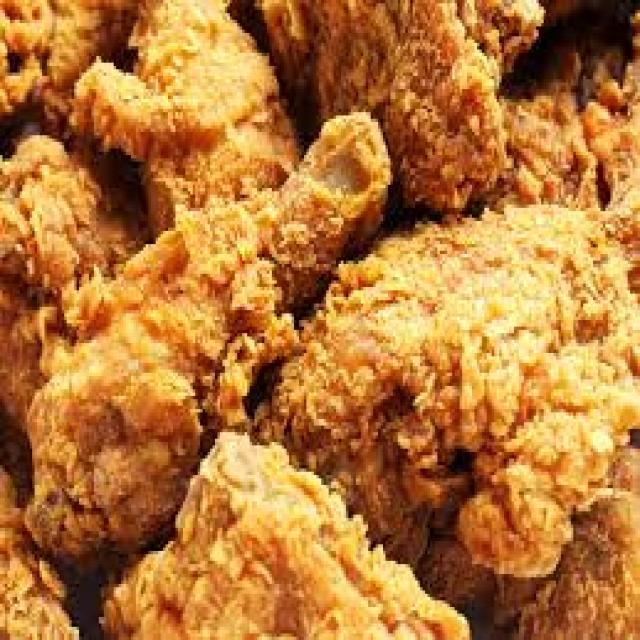Frango: (2, 3, 640, 640)
